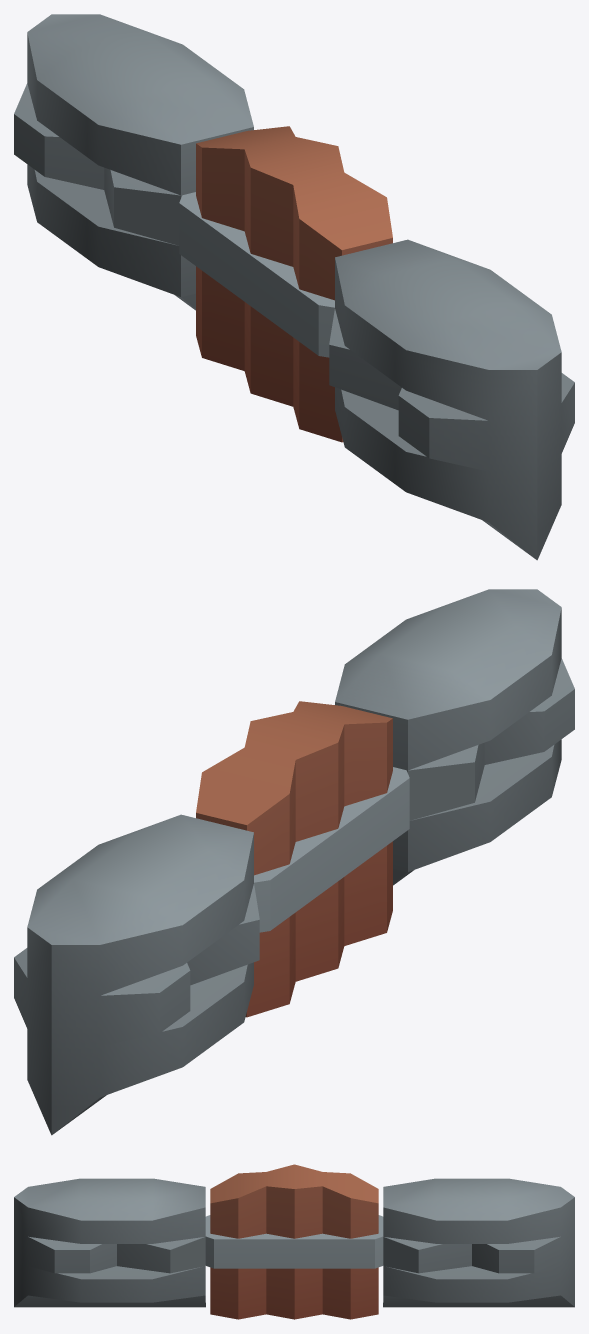
File: fence_stone_straight_gate.glb
3 views of the same model, one above another, from view 1: azimuth 30°, elevation 25°; view 2: azimuth 150°, elevation 25°; view 3: azimuth 270°, elevation 25° (orthographic). The views are drawn at different scales.
Visible parts, largest first — view 1: fence_stone_straight_gate, fence_stone_straight_door; view 2: fence_stone_straight_gate, fence_stone_straight_door; view 3: fence_stone_straight_gate, fence_stone_straight_door.
Boxes of the visible parts, x1,y1,x2,y2 form: fence_stone_straight_gate: (14,14,574,560); fence_stone_straight_door: (179,126,392,442); fence_stone_straight_gate: (14,589,574,1135); fence_stone_straight_door: (196,701,409,1017); fence_stone_straight_gate: (14,1178,574,1307); fence_stone_straight_door: (205,1164,383,1319).
Size of the model in its own units: 0.2 by 0.2963 by 1.15.
Materials: 1 (1 with a texture image).
